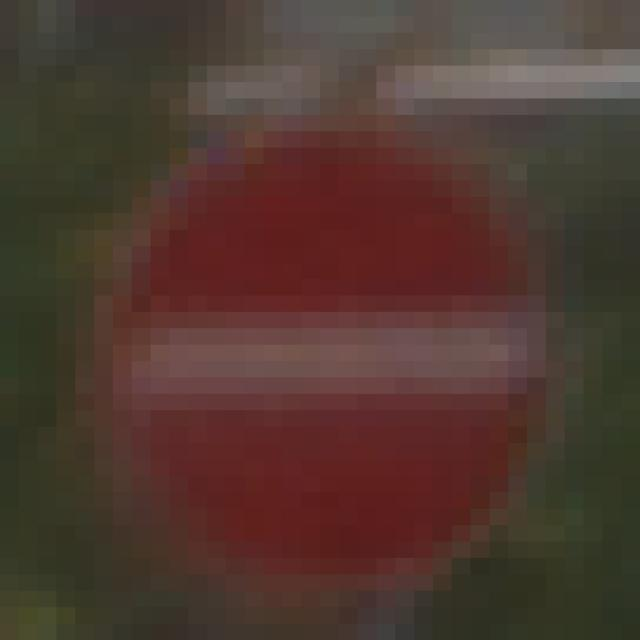No Entry: (95, 83, 547, 559)
